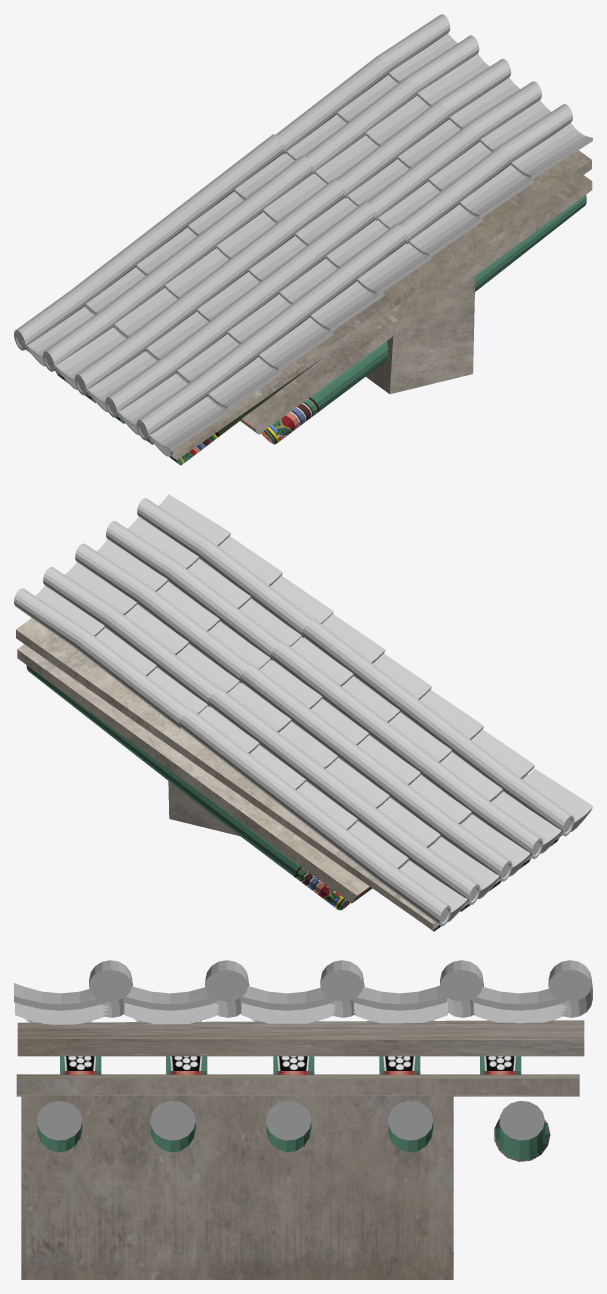
Rendered from SM_Roof_26.fbx.
3 renders of one model, top to bottom at view 1: azimuth 30°, elevation 25°; view 2: azimuth 150°, elevation 25°; view 3: azimuth 270°, elevation 25°, orthographic. The views are drawn at different scales.
Parts seen in each view (by area): view 1: SM_Roof_26; view 2: SM_Roof_26; view 3: SM_Roof_26.
Boxes of the visible parts, x1=… form: SM_Roof_26: x1=14, y1=14, x2=592, y2=465; SM_Roof_26: x1=14, y1=494, x2=592, y2=931; SM_Roof_26: x1=14, y1=960, x2=592, y2=1279.
Bounding box in the file's own units: 538 × 339 × 306.
